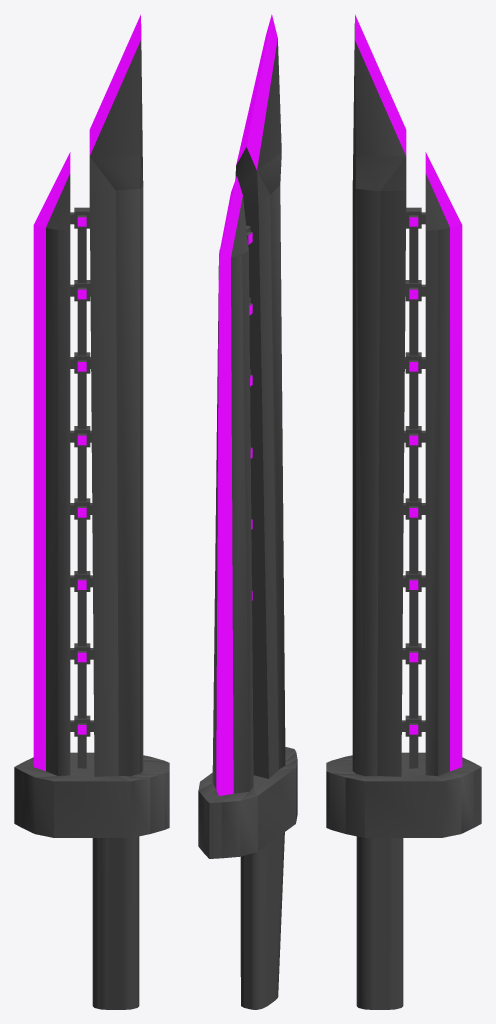
File: Blade001.fbx
3 views of the same model, side by side, from view 1: azimuth 90°, elevation 25°; view 2: azimuth 150°, elevation 25°; view 3: azimuth 270°, elevation 25° (orthographic).
Parts seen in each view (by area): view 1: Blade; view 2: Blade; view 3: Blade.
Part boxes in pixels (box(x1,y1,x2,y2)): Blade: box(14, 14, 169, 1009); Blade: box(198, 14, 297, 1009); Blade: box(326, 14, 481, 1009).
Size of the model in its own units: 12.65 by 204 by 29.04.
